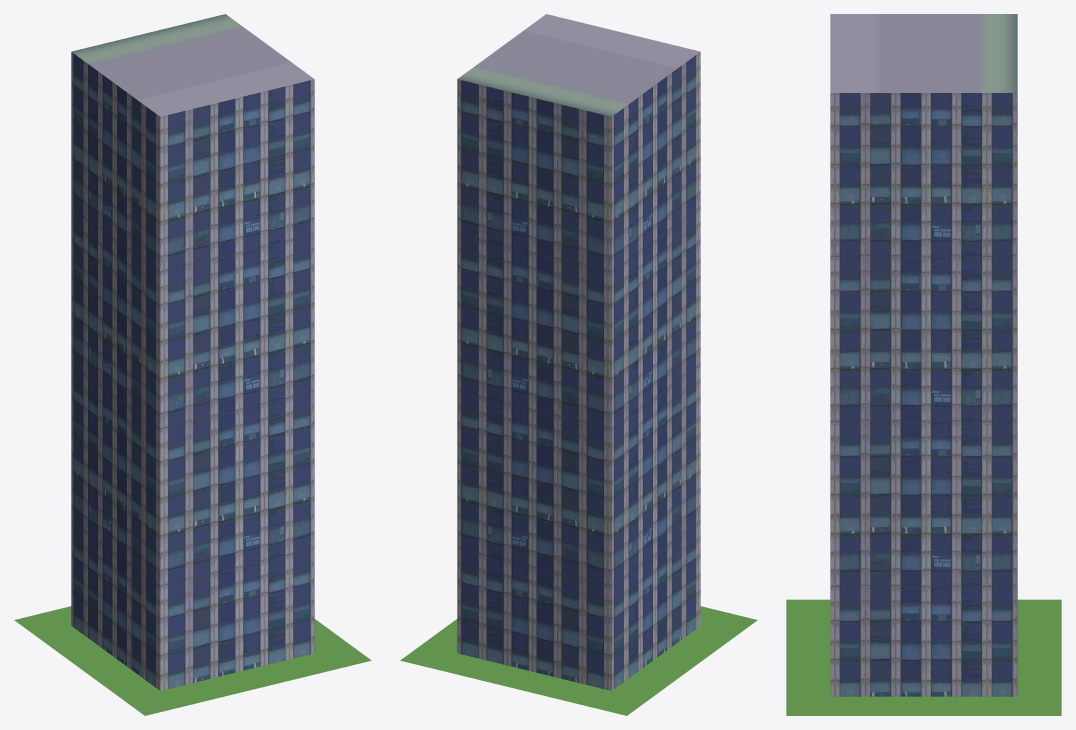
File: Building.006.gltf
3 renders of one model, left to right at view 1: azimuth 30°, elevation 25°; view 2: azimuth 150°, elevation 25°; view 3: azimuth 270°, elevation 25°, orthographic. The views are drawn at different scales.
Parts seen in each view (by area): view 1: Building.006, Plane.006; view 2: Building.006, Plane.006; view 3: Building.006, Plane.006.
Boxes of the visible parts, left/top/right/bottom form: Building.006: left=71, top=14, right=314, bottom=690; Plane.006: left=14, top=606, right=371, bottom=715; Building.006: left=457, top=14, right=700, bottom=690; Plane.006: left=400, top=606, right=757, bottom=715; Building.006: left=830, top=14, right=1017, bottom=696; Plane.006: left=786, top=599, right=1061, bottom=715.
Size of the model in its own units: 10.5 by 25.42 by 10.5.
Materials: 2 (1 with a texture image).
